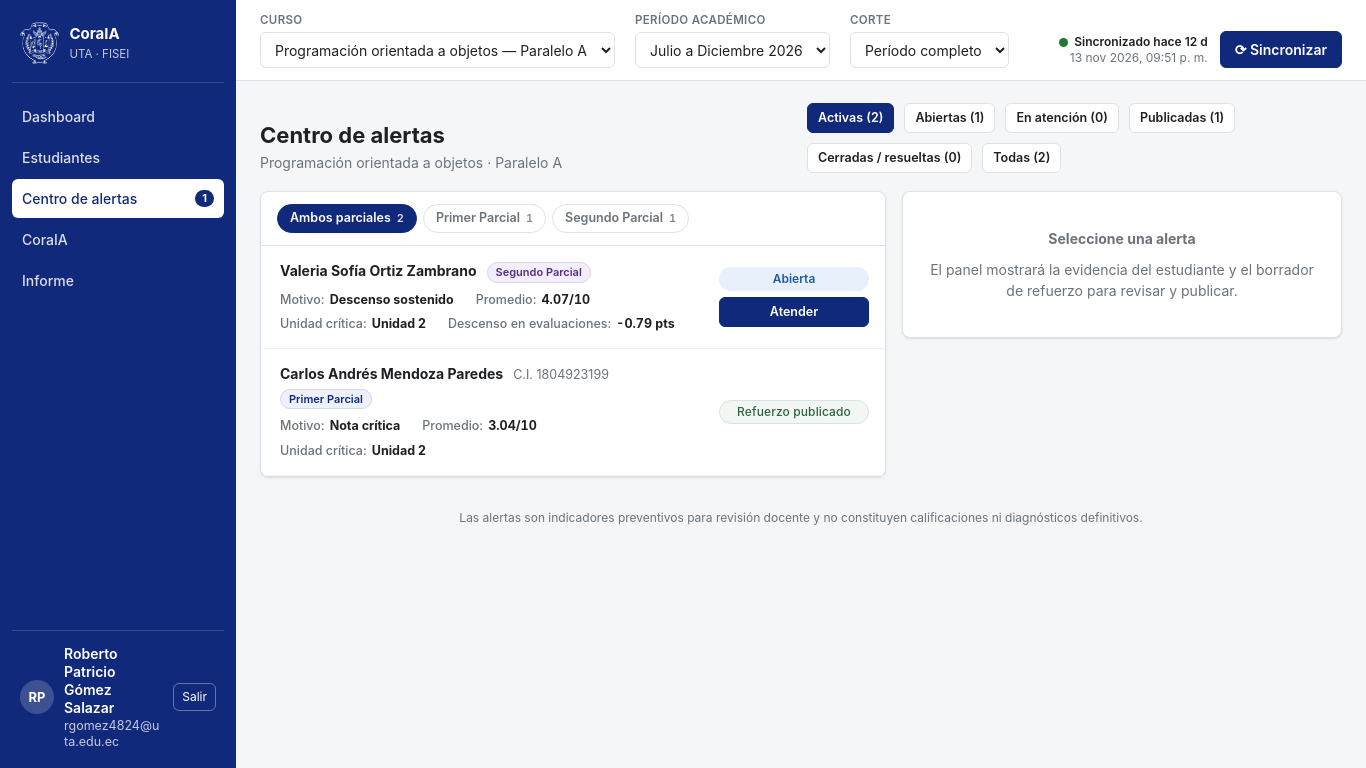
Centro de alertas · tarea publicada y descenso en evaluaciones › muestra «Ver tarea en Moodle» sólo con refuerzo publicado y rotula el descenso en evaluaciones
Expected: the text with test id "subtitulo-alertas" reads "Programación orientada a objetos · Paralelo A", 260,154 -> 562,171
Click the button with test id "alerta-1".
click(392, 374)  # box 261,349 -> 885,476
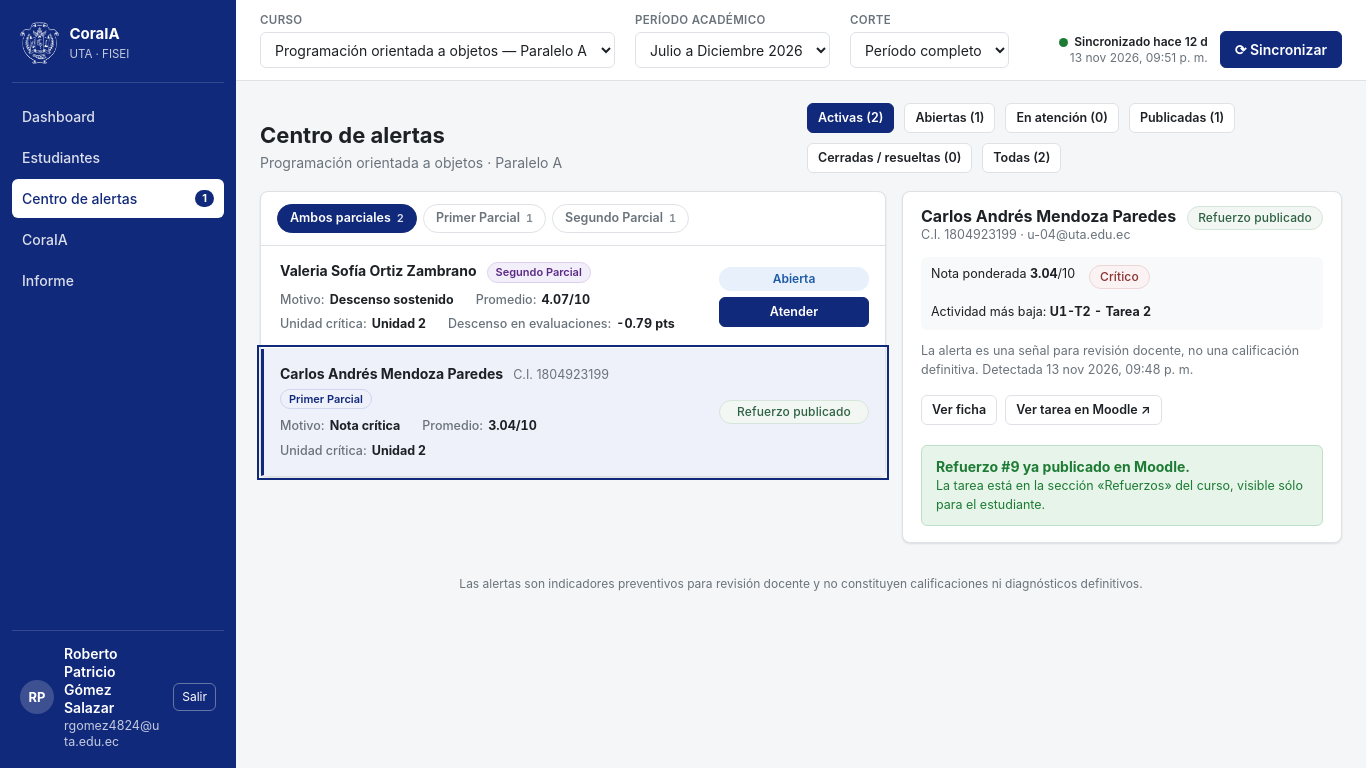
Expected: the link with test id "ver-tarea-moodle" shows "Ver tarea en Moodle", 1005,395 -> 1162,425
Expected: the link "Ver ficha" is shown, 921,395 -> 997,425
